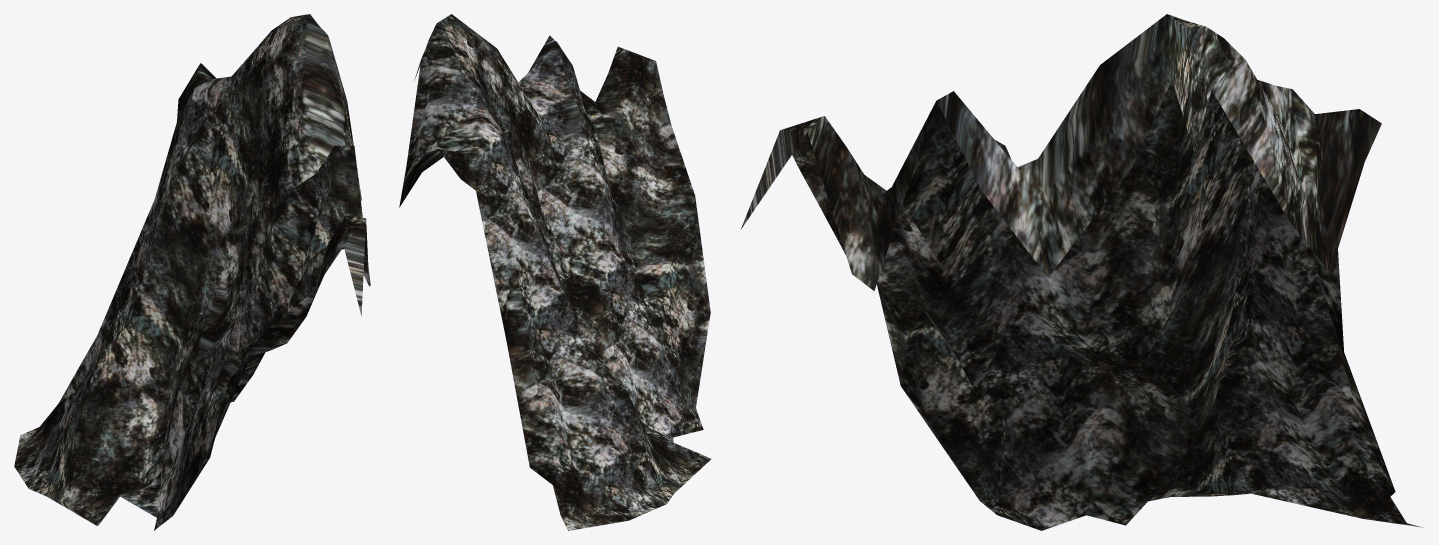
The model's file is OVERHILL_A_01_OBJECT376.fbx.
3 renders of one model, left to right at view 1: azimuth 30°, elevation 25°; view 2: azimuth 150°, elevation 25°; view 3: azimuth 270°, elevation 25°, orthographic. The views are drawn at different scales.
Visible parts, largest first — view 1: OVERHILL_A_01_OBJECT376; view 2: OVERHILL_A_01_OBJECT376; view 3: OVERHILL_A_01_OBJECT376.
Part boxes in pixels (x1,y1,x2,y2): OVERHILL_A_01_OBJECT376: [14, 14, 370, 530]; OVERHILL_A_01_OBJECT376: [399, 14, 711, 530]; OVERHILL_A_01_OBJECT376: [740, 14, 1422, 530].
Bounding box in the file's own units: 232578 × 338849 × 312727.
Materials: 1 (1 with a texture image).
